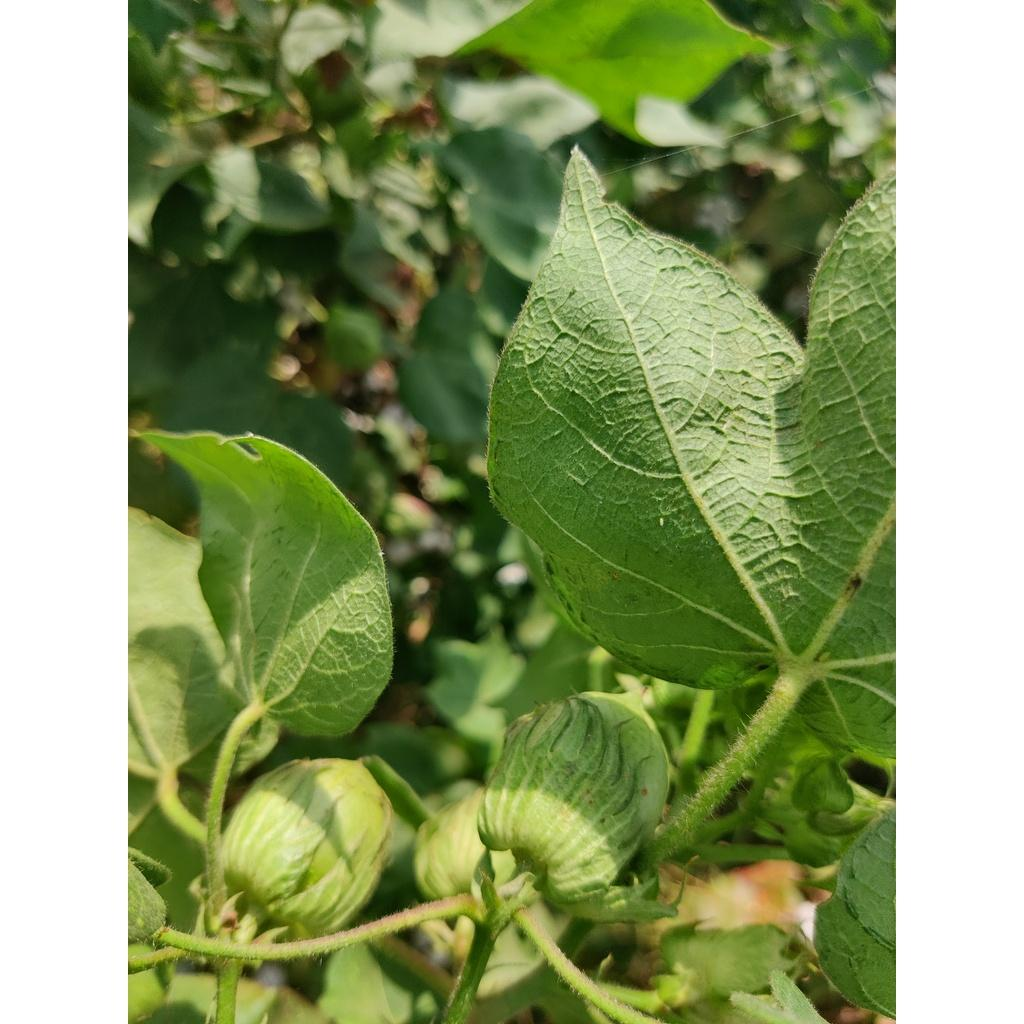adult: (658, 517, 665, 526)
